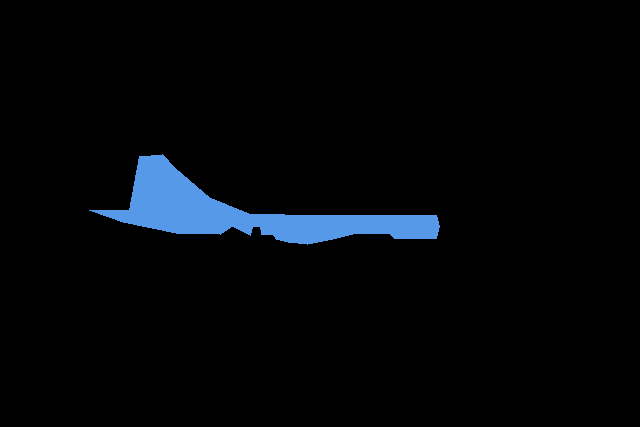Airplane: (89, 154, 440, 244)
